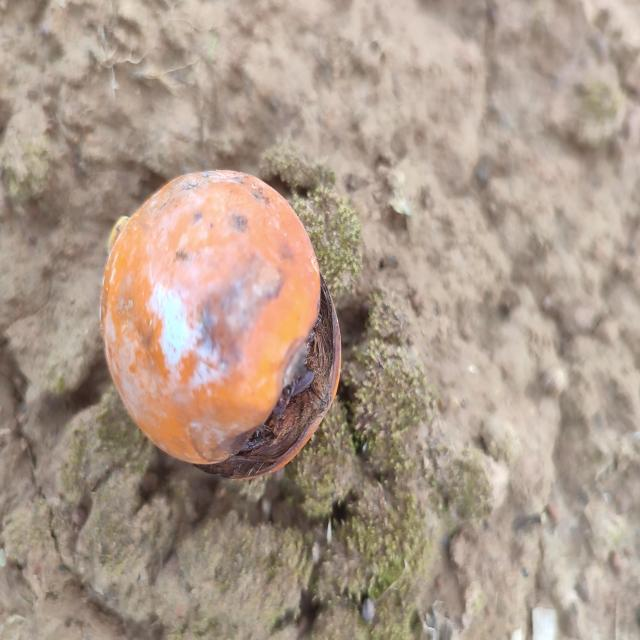damaged: (98, 171, 340, 481)
